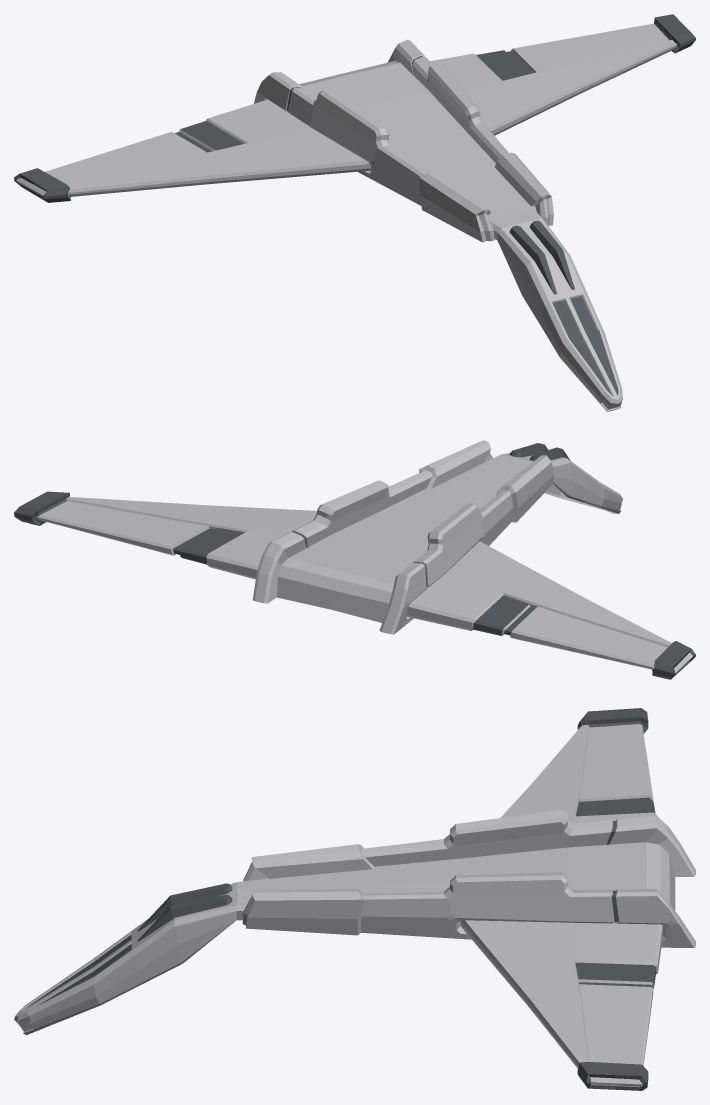
File: Fighter_04_Full_Wing.fbx
3 renders of one model, top to bottom at view 1: azimuth 30°, elevation 25°; view 2: azimuth 150°, elevation 25°; view 3: azimuth 270°, elevation 25°, orthographic. The views are drawn at different scales.
Visible parts, largest first — view 1: Fighter_04_Full_Wing; view 2: Fighter_04_Full_Wing; view 3: Fighter_04_Full_Wing.
Part boxes in pixels (box(x1,y1,x2,y2)): Fighter_04_Full_Wing: box(14, 14, 695, 411); Fighter_04_Full_Wing: box(14, 440, 695, 679); Fighter_04_Full_Wing: box(14, 708, 695, 1090).
Size of the model in its own units: 1945 by 465 by 1509.
1 material, 1 textured.
